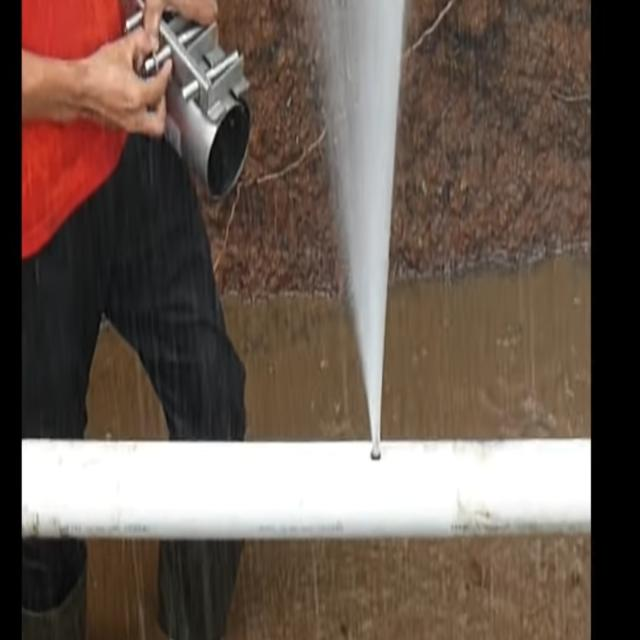leak: (320, 0, 404, 460)
